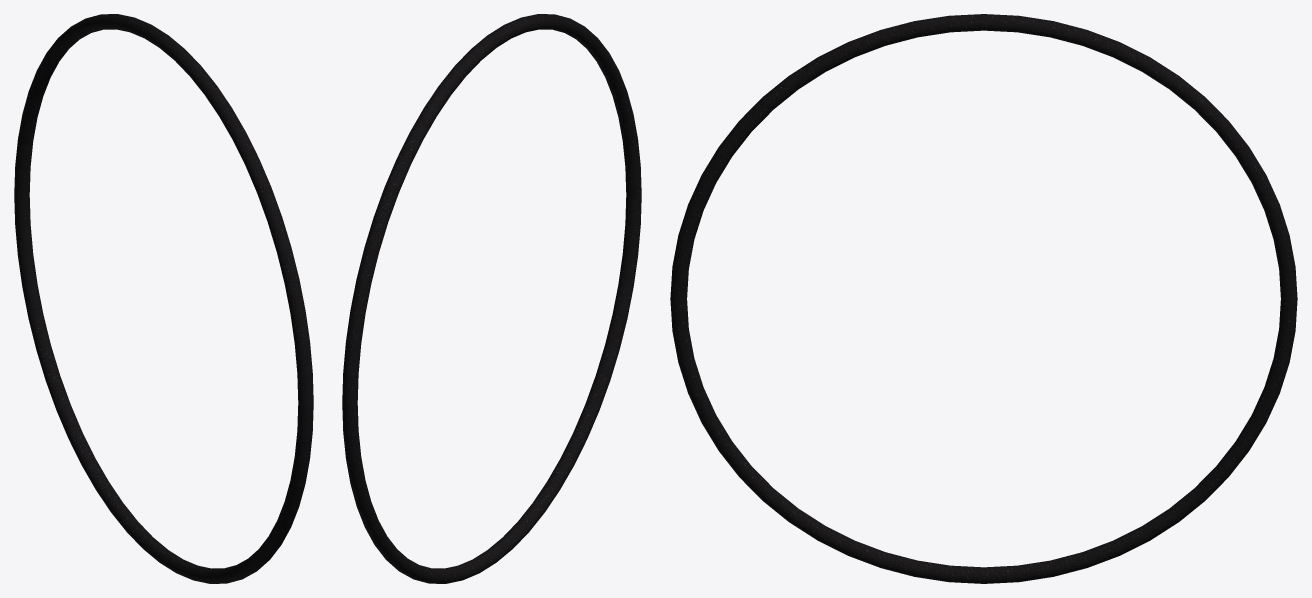
Rendered from torusY.obj.
3 renders of one model, left to right at view 1: azimuth 30°, elevation 25°; view 2: azimuth 150°, elevation 25°; view 3: azimuth 270°, elevation 25°, orthographic. The views are drawn at different scales.
Visible parts, largest first — view 1: Torus.002; view 2: Torus.002; view 3: Torus.002.
Boxes of the visible parts, left/top/right/bottom form: Torus.002: left=14, top=14, right=313, bottom=583; Torus.002: left=342, top=14, right=641, bottom=583; Torus.002: left=670, top=14, right=1297, bottom=583.
Bounding box in the file's own units: 0.8388 × 31.62 × 31.62.
1 material, 1 textured.
